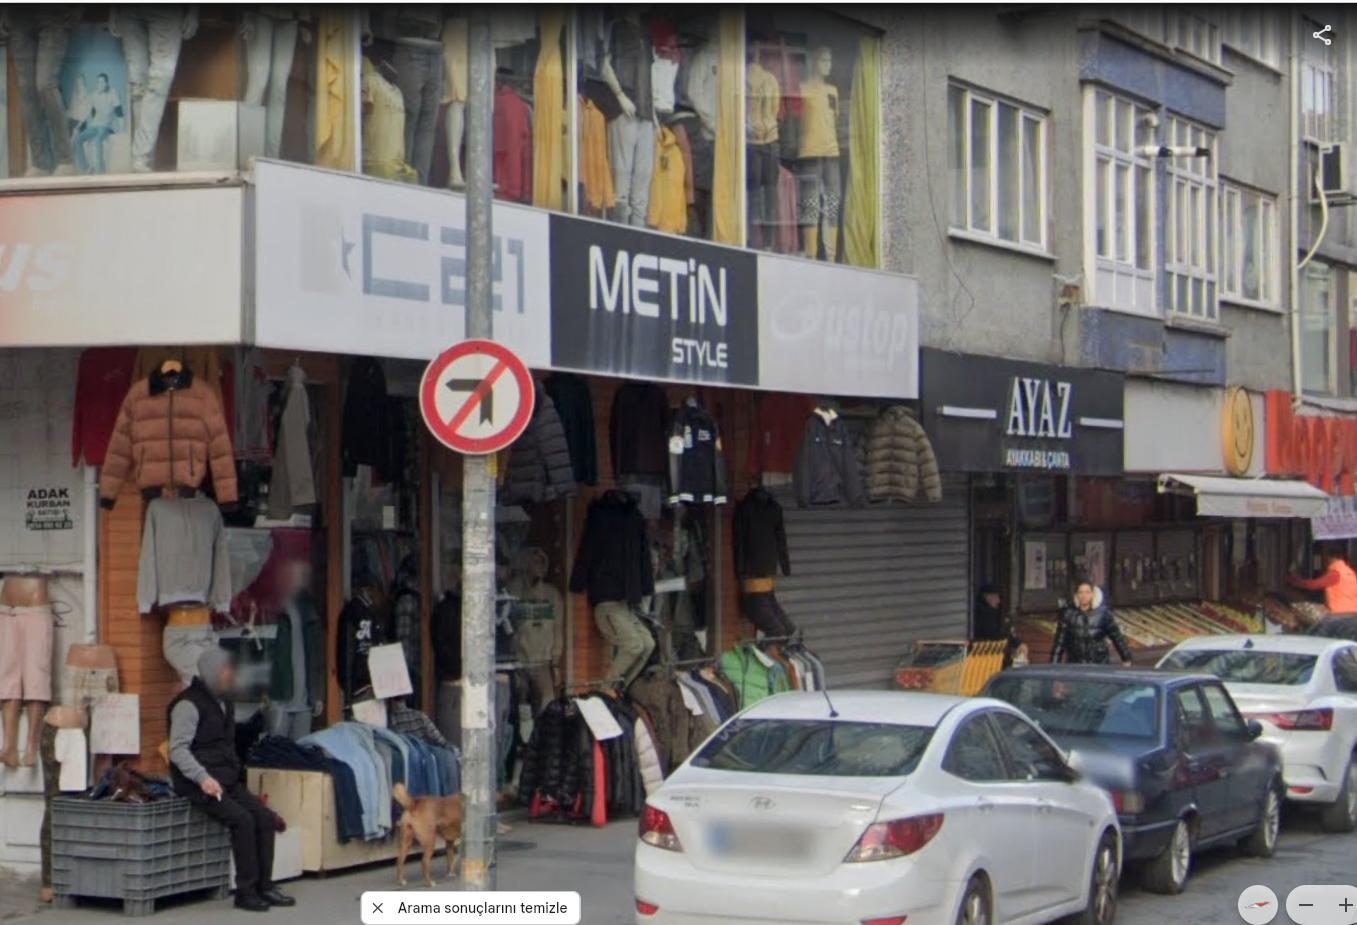leftturnsareforbidden: (422, 340, 531, 448)
